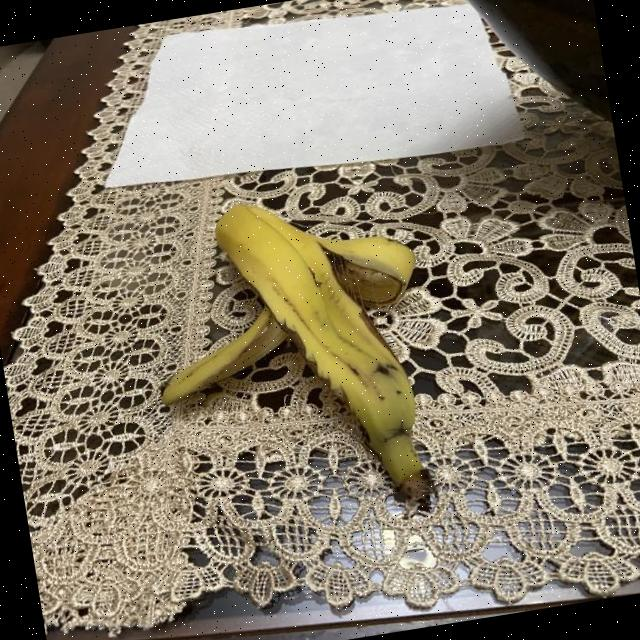banana-peel: (133, 175, 455, 551)
